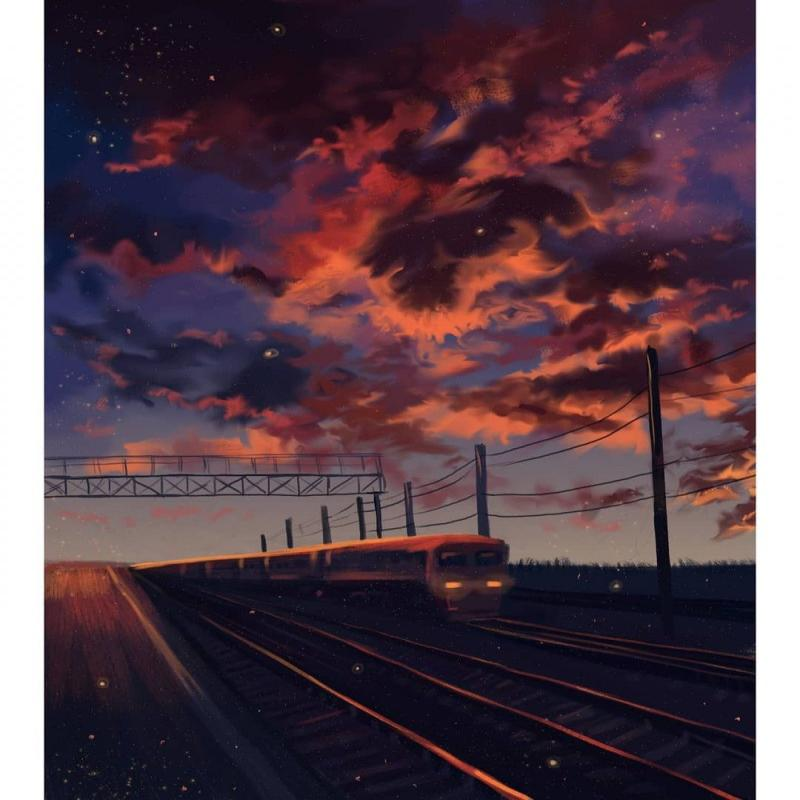train: (312, 536, 517, 627)
